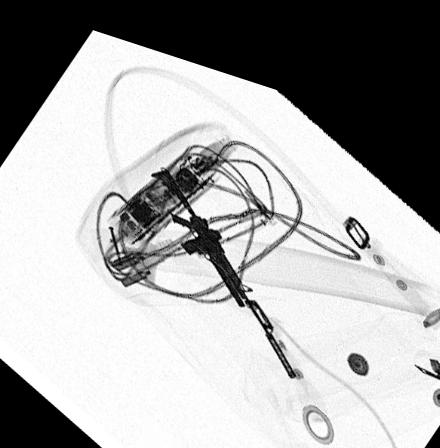Gun: (147, 156, 299, 363)
